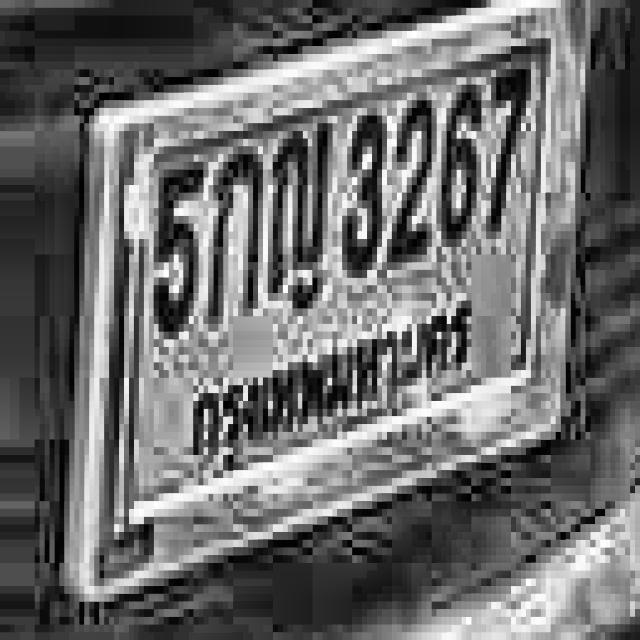license-plate: (68, 3, 590, 603)
